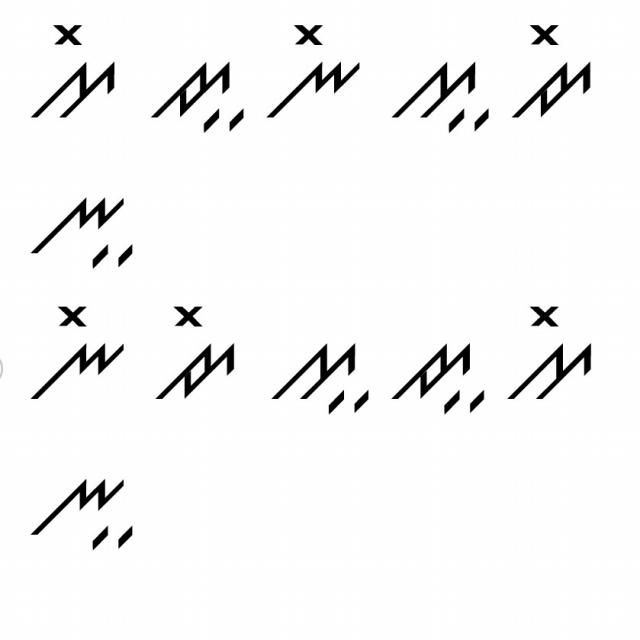jah: (146, 46, 254, 143), (384, 331, 490, 418)
jo: (509, 21, 598, 128), (156, 295, 238, 410)
nyah: (26, 181, 149, 277), (23, 468, 144, 563)
nyo: (18, 293, 135, 405), (268, 19, 369, 123)
sah: (264, 330, 373, 415), (387, 56, 492, 140)
so: (500, 295, 600, 409), (26, 21, 121, 128)
